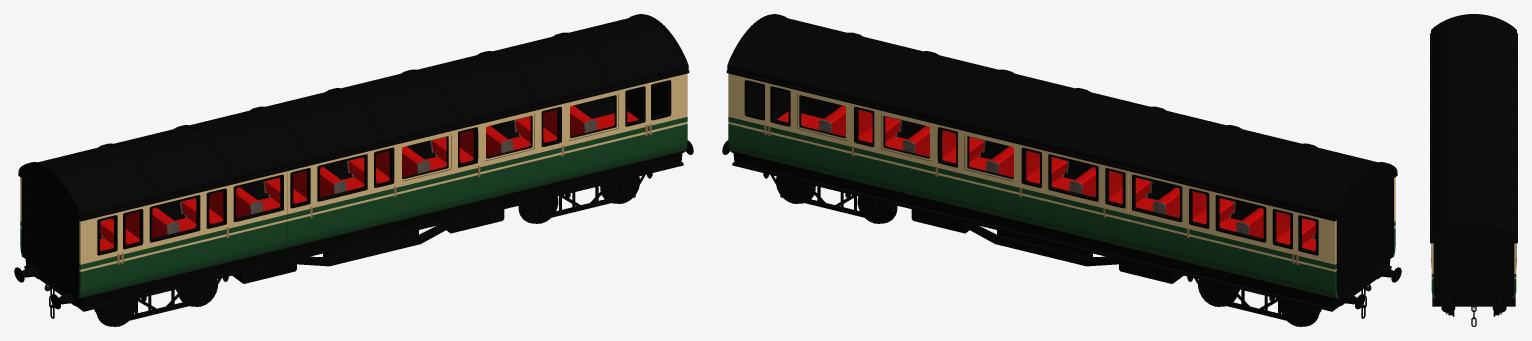
File: green_express_coach.glb
The picture shows the model from 3 angles, left to right: view 1: azimuth 30°, elevation 25°; view 2: azimuth 150°, elevation 25°; view 3: azimuth 270°, elevation 25°; orthographic projection. The views are drawn at different scales.
Parts seen in each view (by area): view 1: coach roof_23, coach body_20, coach flatbed_21, seats_43, coach frame_22, windows_44, boxes_8, door.016_39, door.012_35, door.014_37, door.011_34, door.013_36 (+8 smaller); view 2: coach roof_23, coach body_20, coach flatbed_21, seats_43, coach frame_22, windows_44, boxes_8, door.007_30, door.003_26, door.005_28, door.002_25, door.004_27 (+8 smaller); view 3: coach roof_23, coach frame_22, coach flatbed_21, buffers_14, coach body_20.
Boxes of the visible parts, bbox=[...] form: coach roof_23: bbox=[18, 14, 689, 221]; coach body_20: bbox=[20, 73, 687, 298]; coach flatbed_21: bbox=[24, 111, 683, 311]; seats_43: bbox=[100, 105, 596, 244]; coach frame_22: bbox=[22, 83, 666, 296]; windows_44: bbox=[149, 93, 618, 242]; boxes_8: bbox=[283, 218, 467, 266]; door.016_39: bbox=[537, 104, 564, 186]; door.012_35: bbox=[202, 186, 229, 268]; door.014_37: bbox=[647, 77, 673, 159]; door.011_34: bbox=[118, 206, 145, 288]; door.013_36: bbox=[286, 165, 312, 247]; coach roof_23: bbox=[726, 14, 1397, 221]; coach body_20: bbox=[728, 73, 1395, 298]; coach flatbed_21: bbox=[732, 111, 1391, 311]; seats_43: bbox=[819, 105, 1315, 244]; coach frame_22: bbox=[749, 83, 1393, 296]; windows_44: bbox=[797, 93, 1266, 242]; boxes_8: bbox=[948, 218, 1132, 266]; door.007_30: bbox=[851, 104, 878, 186]; door.003_26: bbox=[1186, 186, 1213, 268]; door.005_28: bbox=[742, 77, 768, 159]; door.002_25: bbox=[1270, 206, 1297, 288]; door.004_27: bbox=[1103, 165, 1129, 247]; coach roof_23: bbox=[1430, 14, 1517, 243]; coach frame_22: bbox=[1433, 225, 1514, 298]; coach flatbed_21: bbox=[1432, 296, 1515, 306]; buffers_14: bbox=[1441, 298, 1506, 312]; coach body_20: bbox=[1431, 243, 1516, 298].
Bounding box in the file's own units: 27.95 × 6.7 × 4.78.
Materials: 7 (5 with a texture image).
